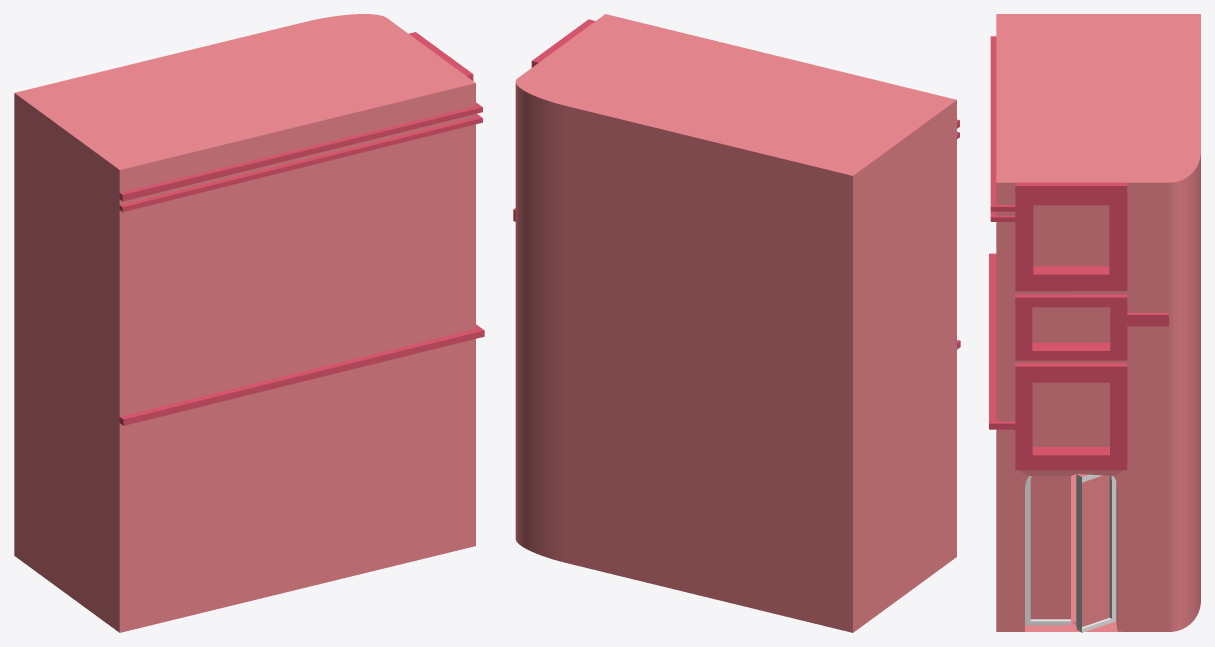
The picture shows the model from 3 angles, left to right: view 1: azimuth 30°, elevation 25°; view 2: azimuth 150°, elevation 25°; view 3: azimuth 270°, elevation 25°; orthographic projection. The views are drawn at different scales.
Parts seen in each view (by area): view 1: B6; view 2: B6; view 3: B6.
Part boxes in pixels (x1,y1,x2,y2): B6: [14, 14, 484, 632]; B6: [513, 14, 960, 632]; B6: [989, 14, 1200, 632].
Bounding box in the file's own units: 11098 × 13508 × 5773.
